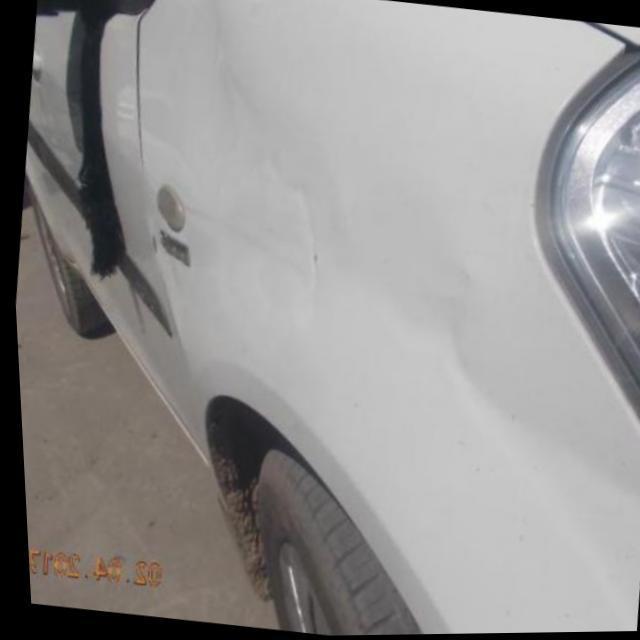dent: (417, 231, 488, 420), (272, 181, 322, 330)
scratch: (200, 0, 269, 173)
